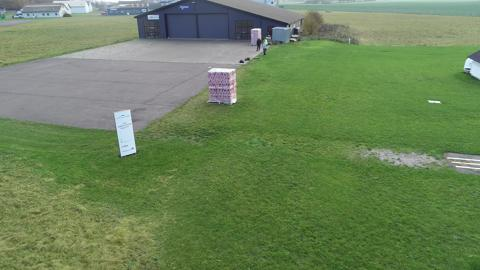RockwoolPallet: (250, 28, 262, 47)
